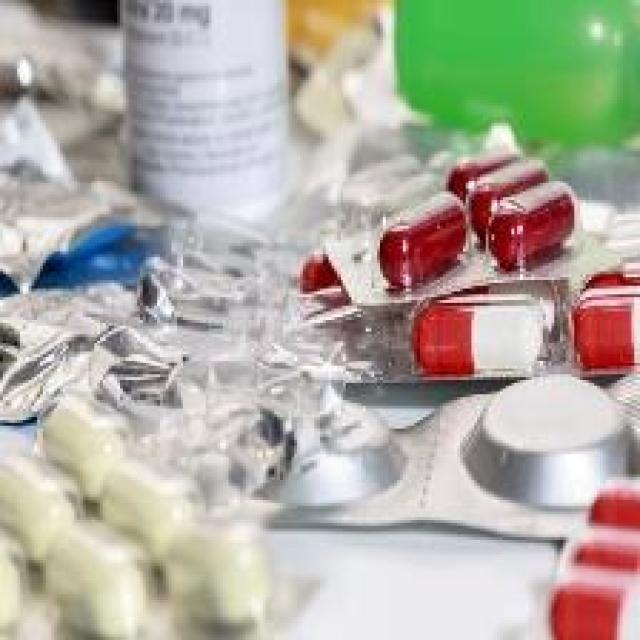Medicine: (0, 109, 640, 640)
